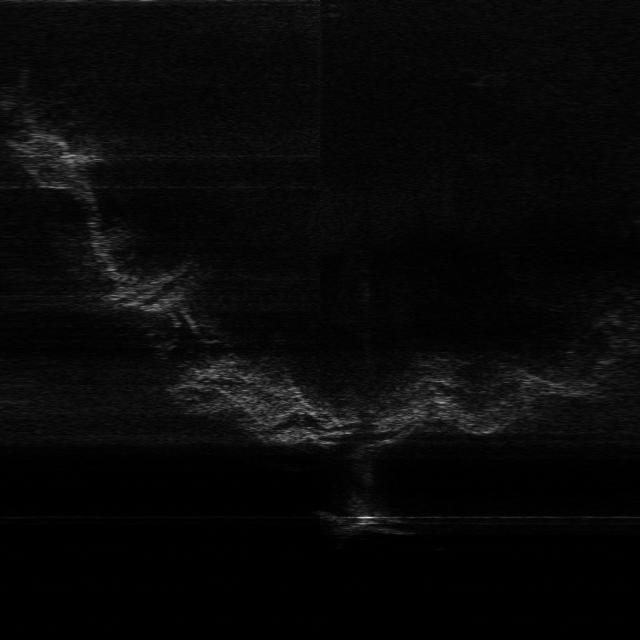plane: (316, 507, 414, 539)
